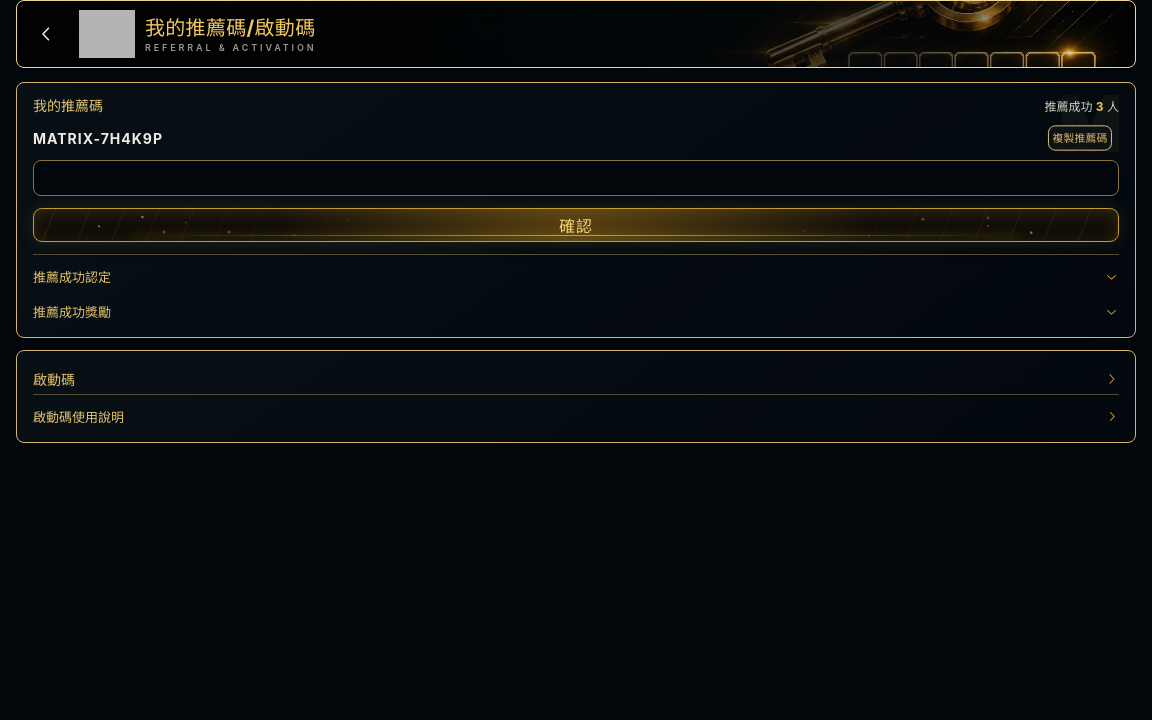
Test: existing feature actions › loads referral details and lets an eligible member submit one referral code
Expected: the text "MATRIX-7H4K9P" is shown, [33, 130, 163, 146]
Expected: the element with class "referral-success-count" reads "推薦成功 3 人", [1044, 98, 1119, 116]
Type "FRIEND-8A2K" into the field named "推薦碼" at (576, 178), box [33, 160, 1119, 196]
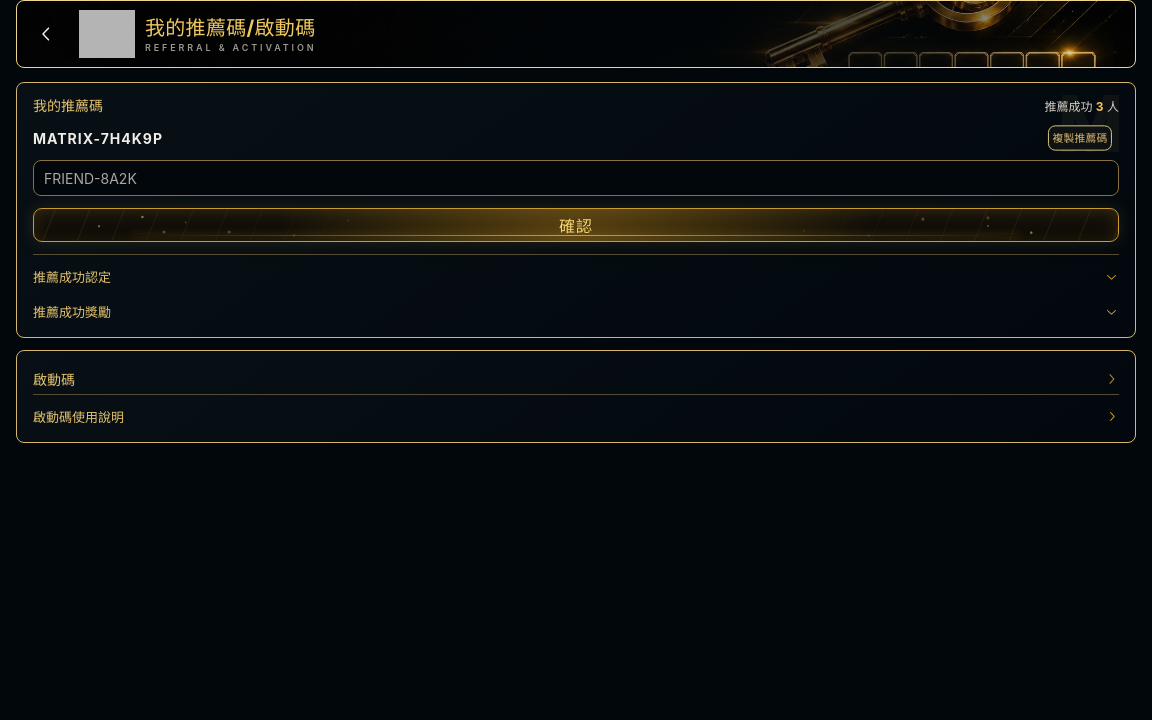
Click the button "確認" at (576, 225), box [33, 208, 1119, 242]
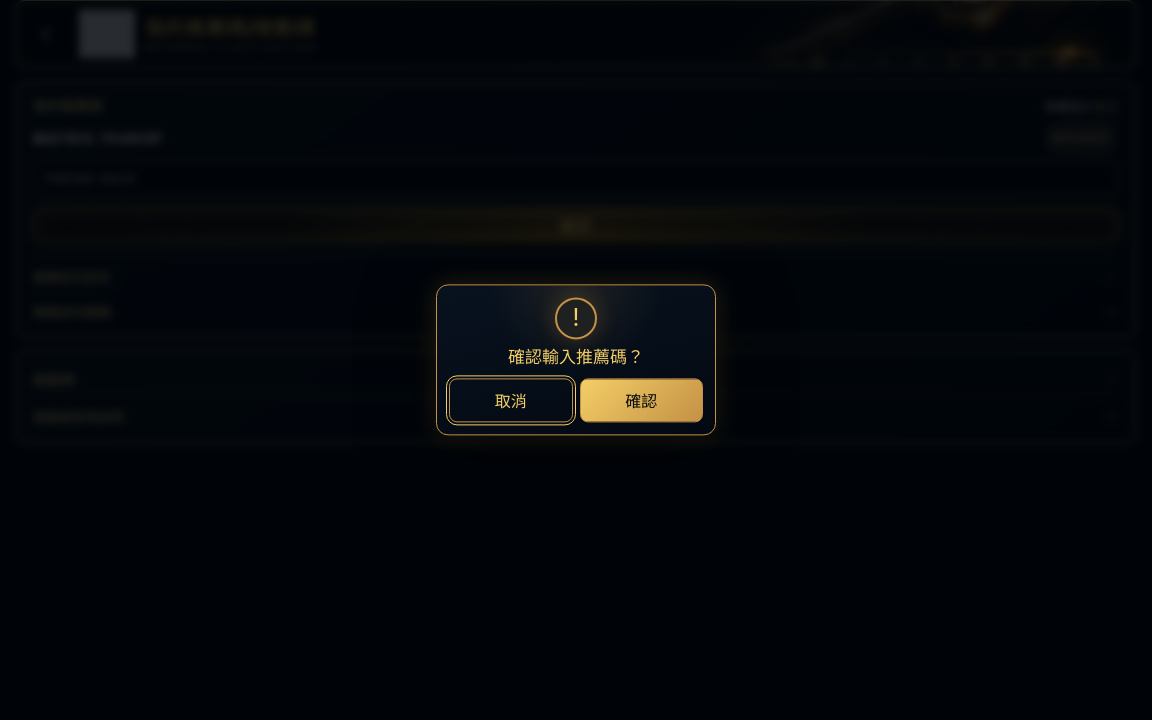
Now the dialog shows "確認輸入推薦碼？", box [508, 347, 644, 367]
Click the button "確認" at (641, 401), box [580, 379, 703, 423]
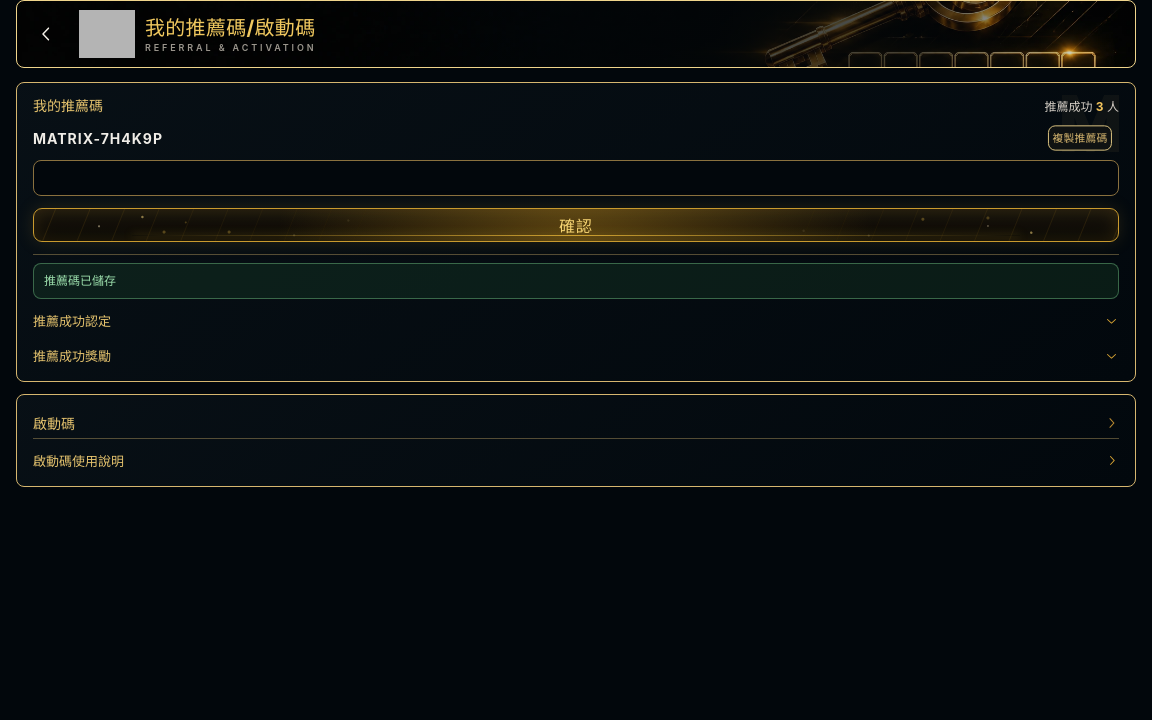
Expected: the field named "推薦碼" is empty, [33, 160, 1119, 196]
Now the button "確認" is disabled, box [33, 208, 1119, 242]
Now the message reads "推薦碼已儲存", box [44, 273, 116, 288]
